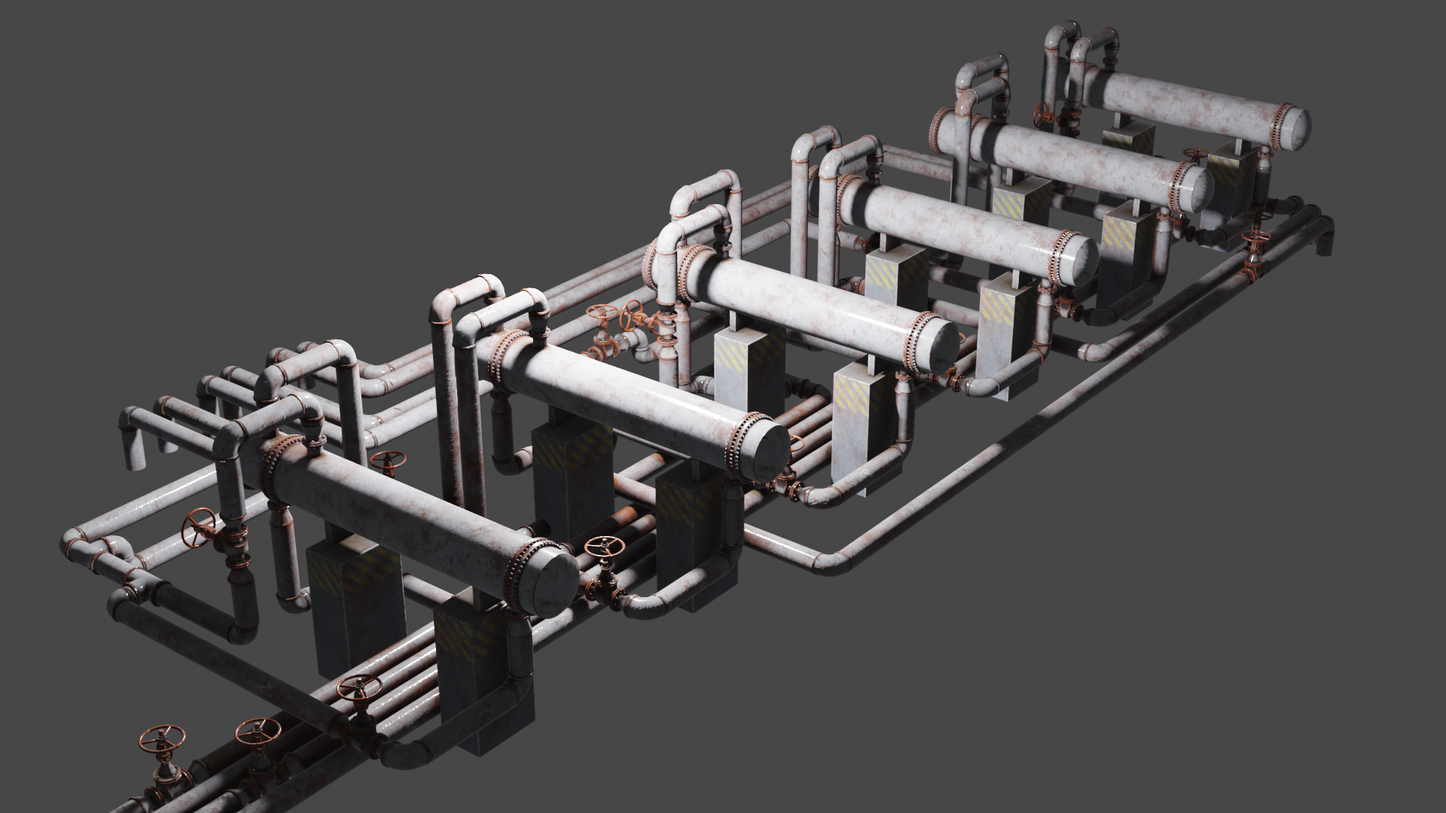HE_1: (1054, 61, 1310, 149)
HE_2: (928, 104, 1211, 215)
HE_3: (805, 159, 1103, 283)
HE_4: (642, 228, 963, 375)
HE_5: (472, 322, 791, 488)
HE_6: (238, 420, 578, 614)
